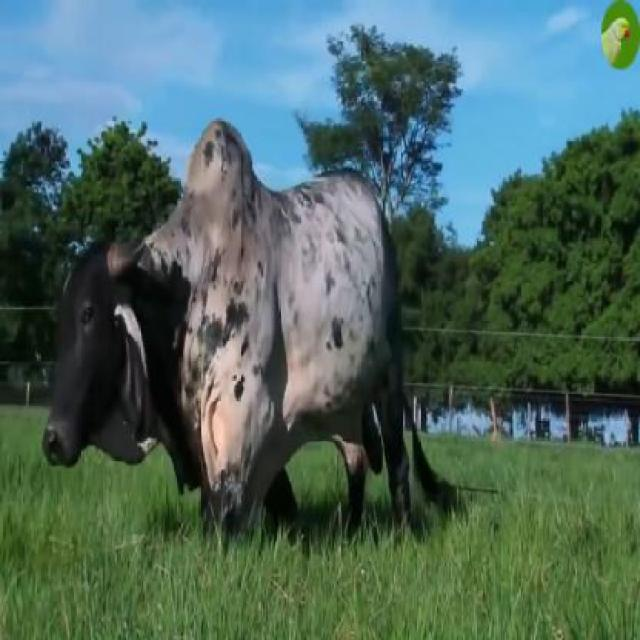Cow: (43, 118, 400, 588)
